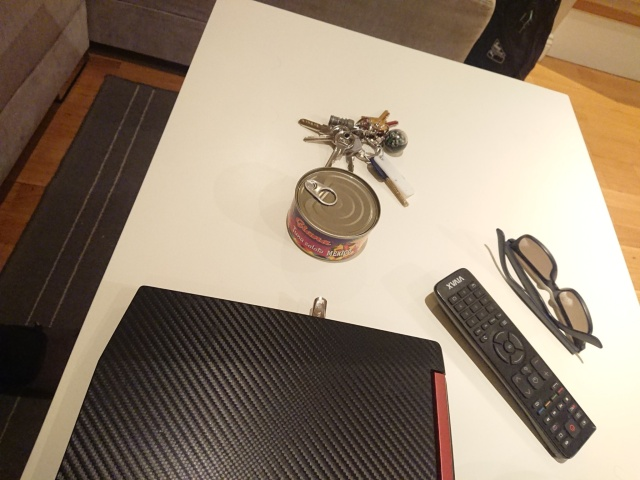Giana Tuna Salad Mexico 185g: (284, 164, 384, 266)
